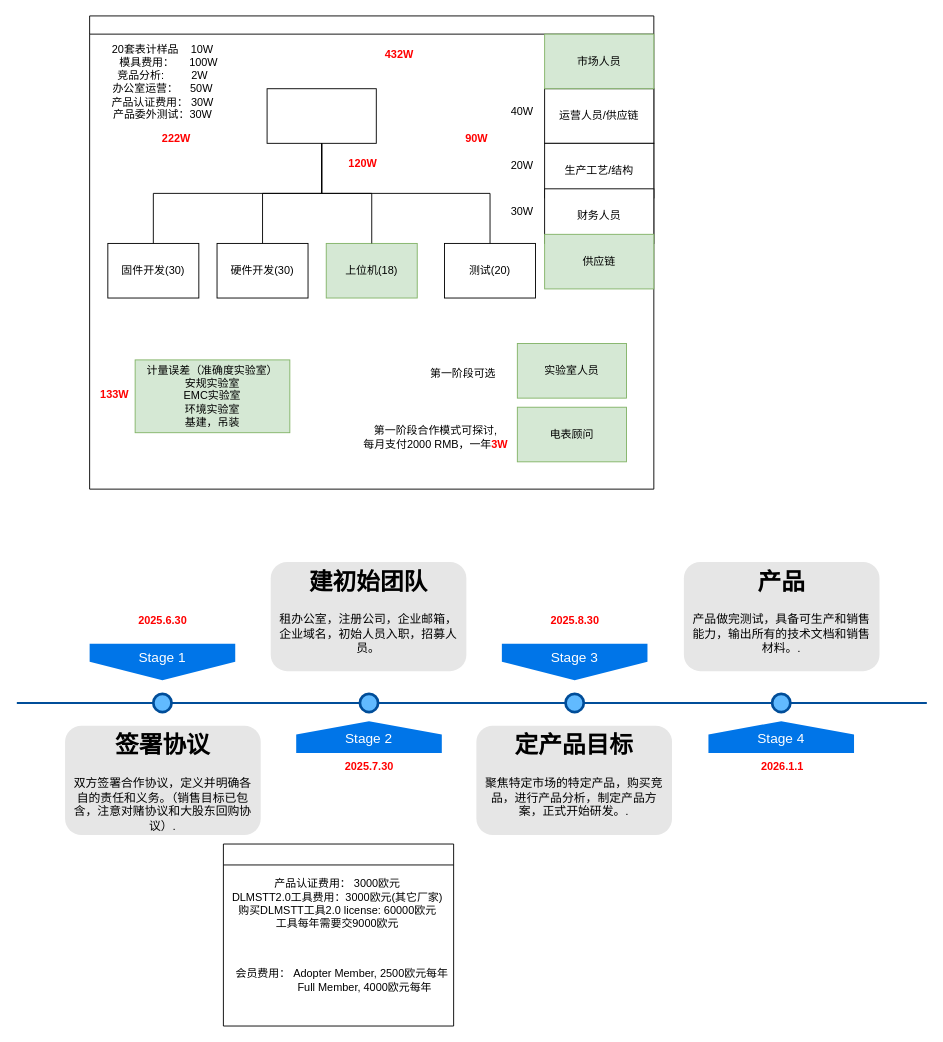
The diagram is 943 pixels wide and 1042 high, and some of its shapes have lost their labels. Here are the shapes that lost their labels. From the top down, the box of each, then its label:
(266, 88, 376, 143): 产品开发测试(40)
(89, 15, 654, 489): Orgchart
(222, 843, 454, 1026): DLMS认证
